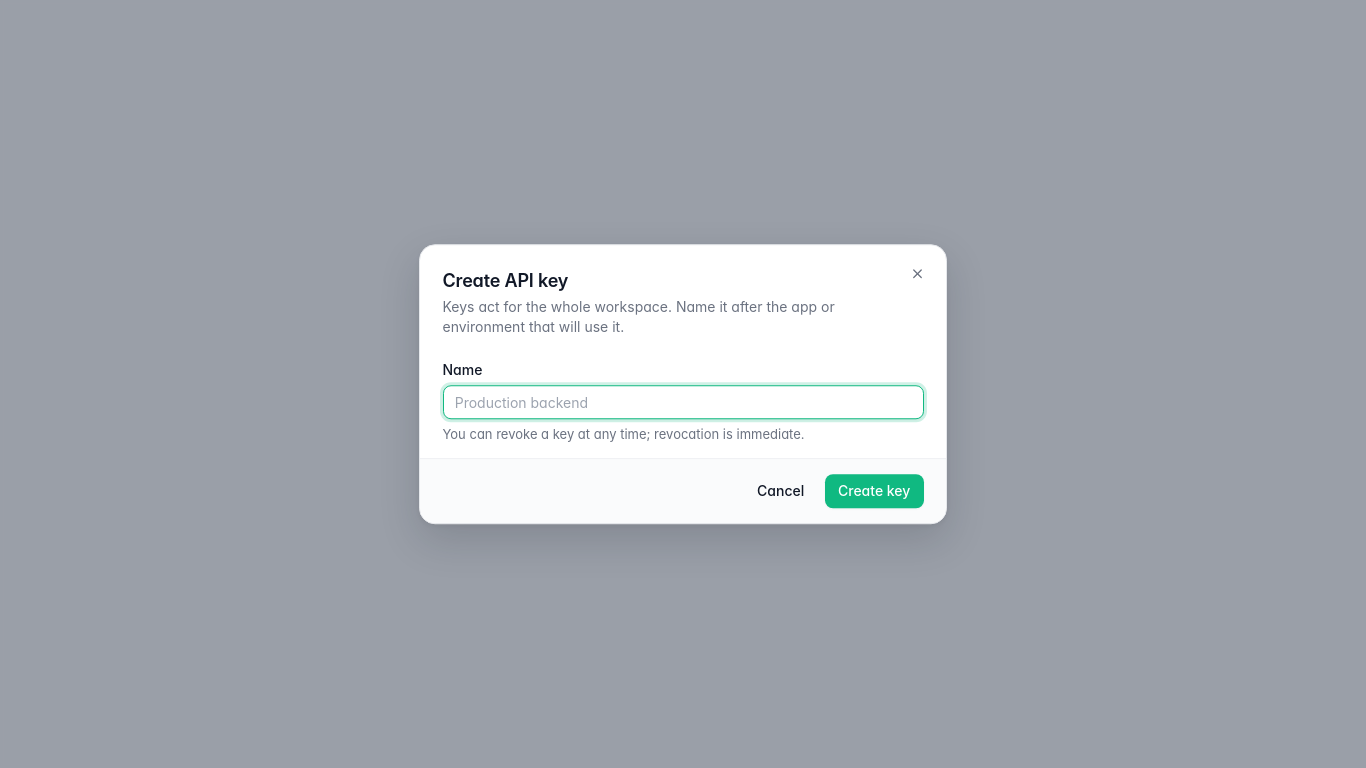
Test: <CreateKeyDialog /> › creates the key and reveals it once with a warning
Type "Production" into the field labelled "Name" at coordinates (683, 402), box [442, 386, 924, 419]
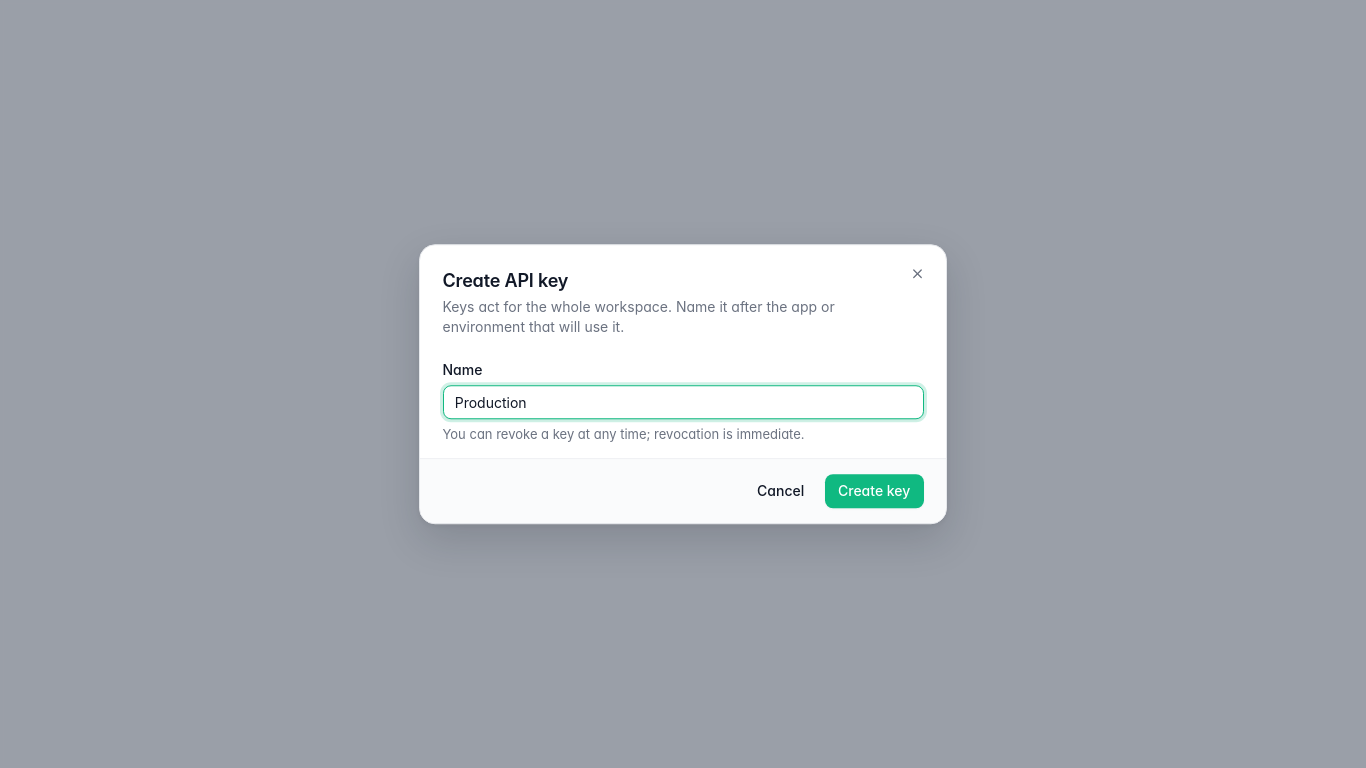
Click the button "Create key" at coordinates (874, 491), box [825, 474, 924, 508]
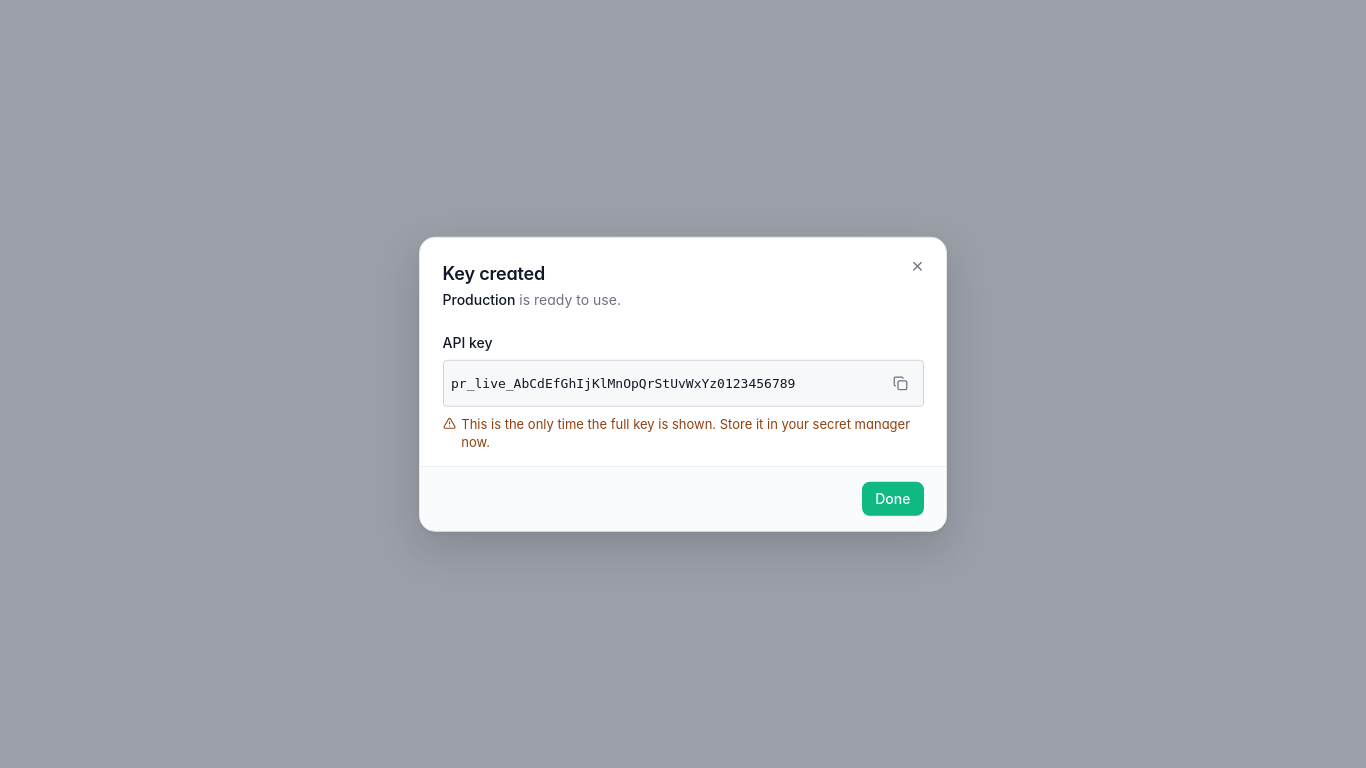
Expected: the button named "api key: pr_live_" is shown, [885, 368, 915, 398]
Result: the text with test id "secret-value" reads "pr_live_AbCdEfGhIjKlMnOpQrStUvWxYz0123456789" at [451, 376, 795, 390]
Result: the text "only time the full key is shown" is shown at [461, 416, 910, 450]
